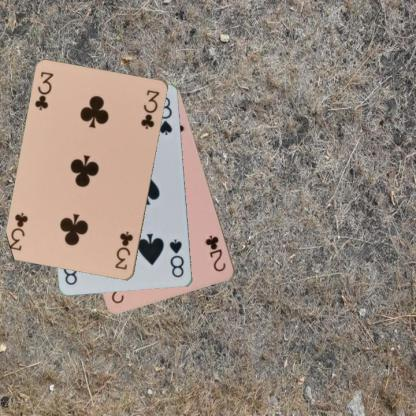2c: (203, 233, 228, 273)
3c: (32, 69, 55, 112), (112, 229, 134, 271)
8s: (167, 237, 185, 279)
